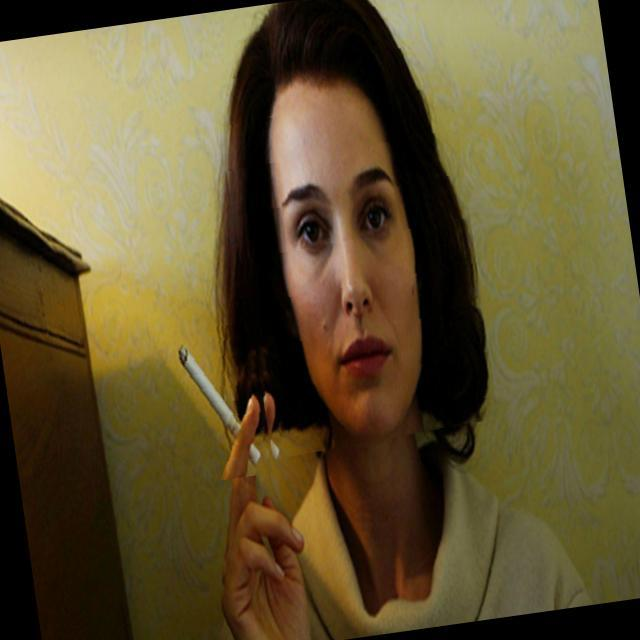cigarette: (160, 312, 282, 486)
